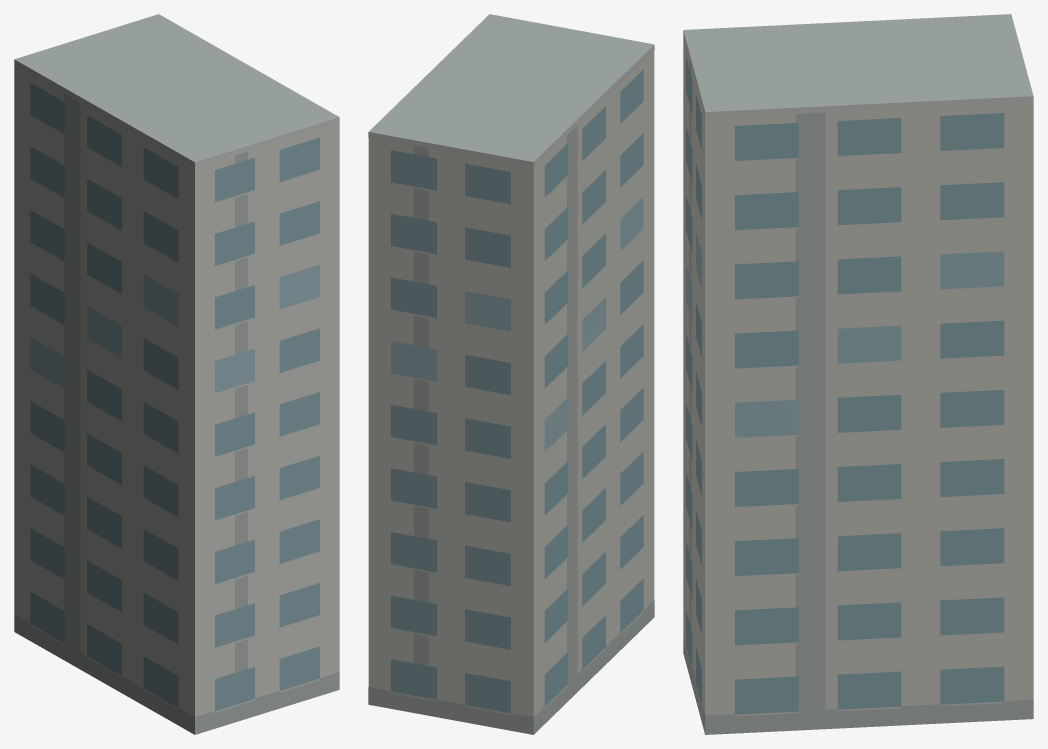
The model's file is residential-6b789ee7-97e5-4de2-aafa-fea8f8a77aaf.glb.
The picture shows the model from 3 angles, left to right: view 1: azimuth 30°, elevation 25°; view 2: azimuth 150°, elevation 25°; view 3: azimuth 270°, elevation 25°; orthographic projection. The views are drawn at different scales.
Visible parts, largest first — view 1: residential-6b789ee7-97e5-4de2-aafa-fea8f8a77aaf.tmp; view 2: residential-6b789ee7-97e5-4de2-aafa-fea8f8a77aaf.tmp; view 3: residential-6b789ee7-97e5-4de2-aafa-fea8f8a77aaf.tmp.
Part boxes in pixels (x1,y1,x2,y2): residential-6b789ee7-97e5-4de2-aafa-fea8f8a77aaf.tmp: [14, 14, 339, 734]; residential-6b789ee7-97e5-4de2-aafa-fea8f8a77aaf.tmp: [368, 14, 654, 734]; residential-6b789ee7-97e5-4de2-aafa-fea8f8a77aaf.tmp: [683, 14, 1033, 734].
Size of the model in its own units: 8.11 by 24 by 12.25.
